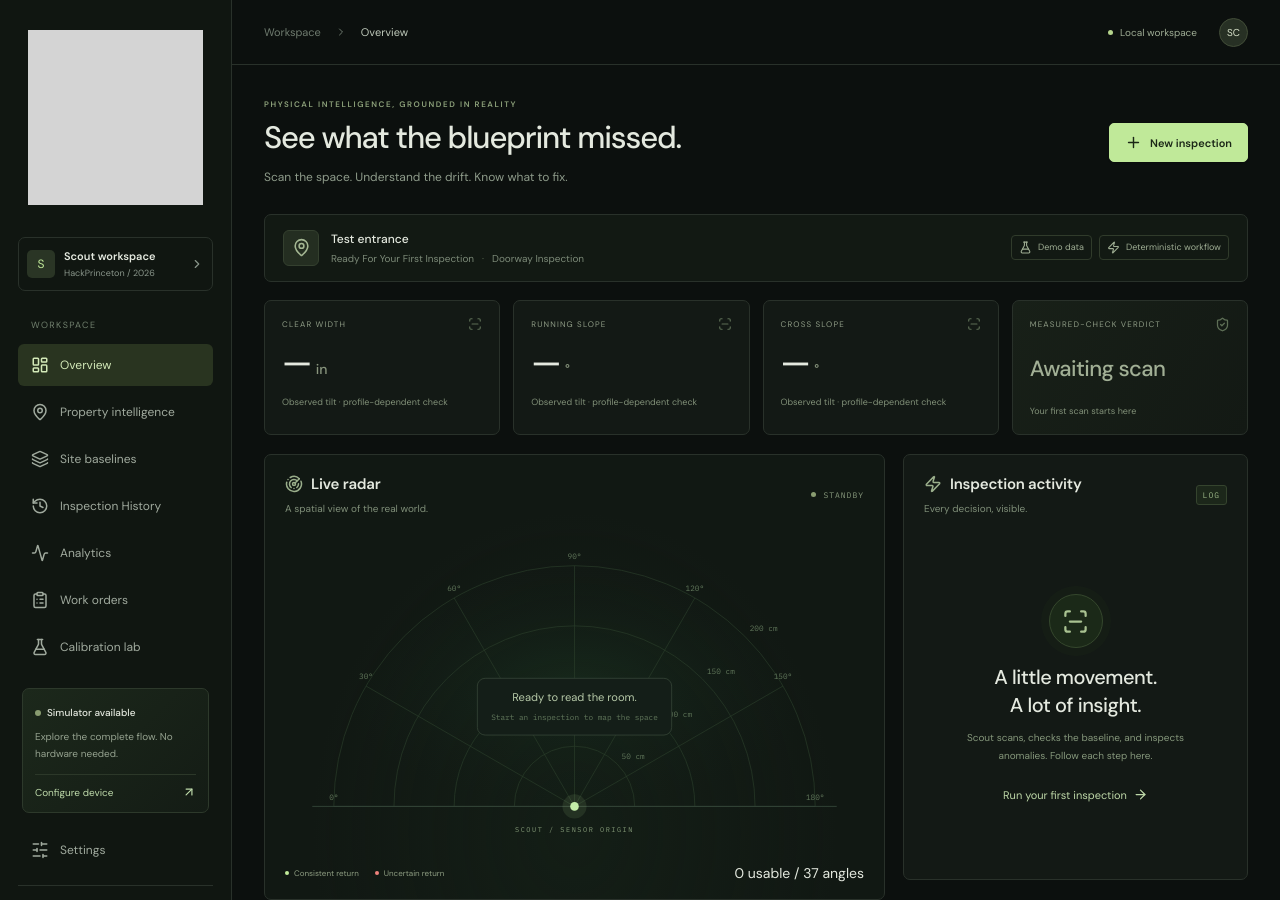
Test case: Inspection workspace › cancels a running scan
The image size is (1280, 900).
expect the heading "See what the blueprint missed." is shown: met, box [264,119,681,158]
Click the button "New inspection".
click(1179, 143)  # box [1109,124,1248,162]
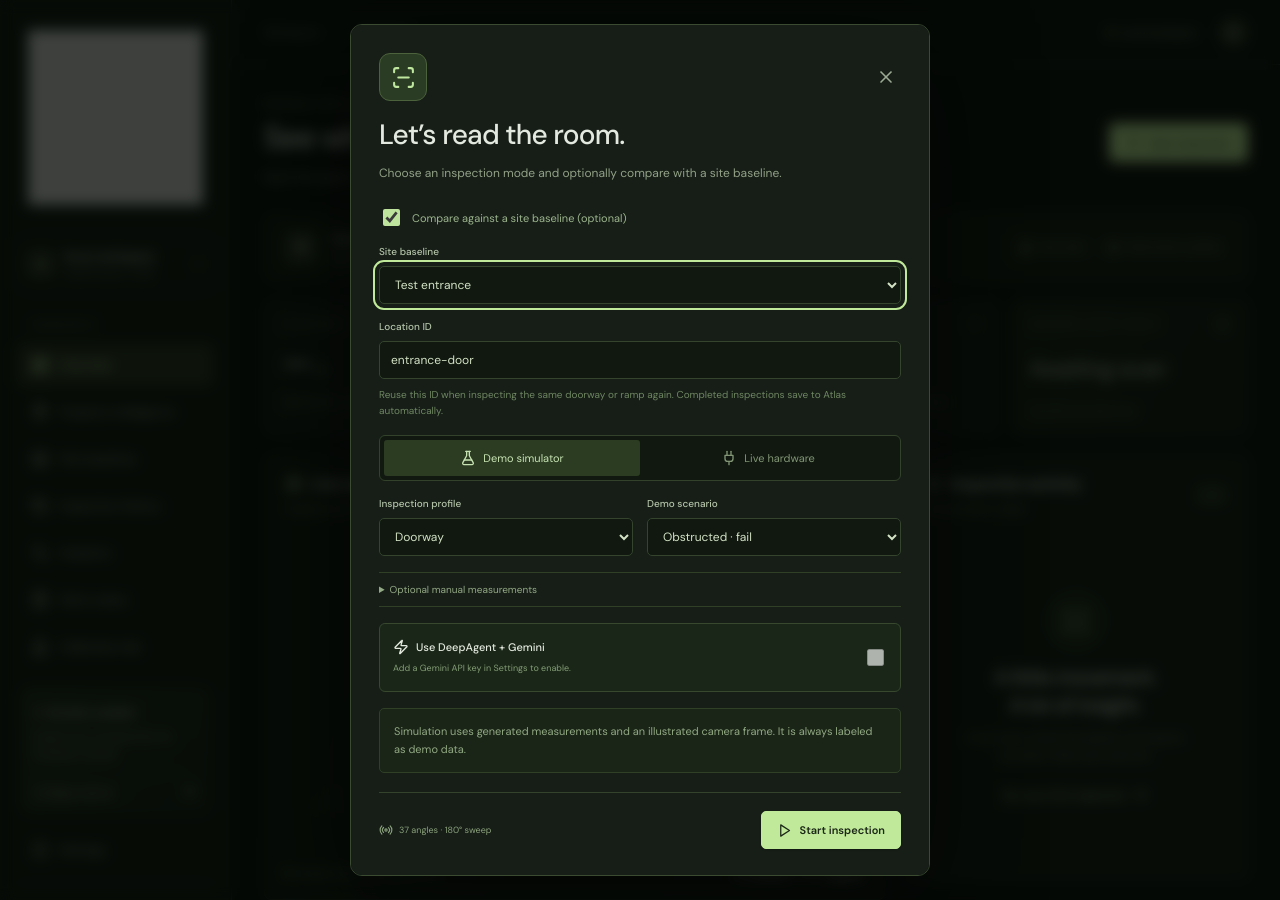
Click the button "Start inspection".
click(831, 830)  # box [761,811,901,849]
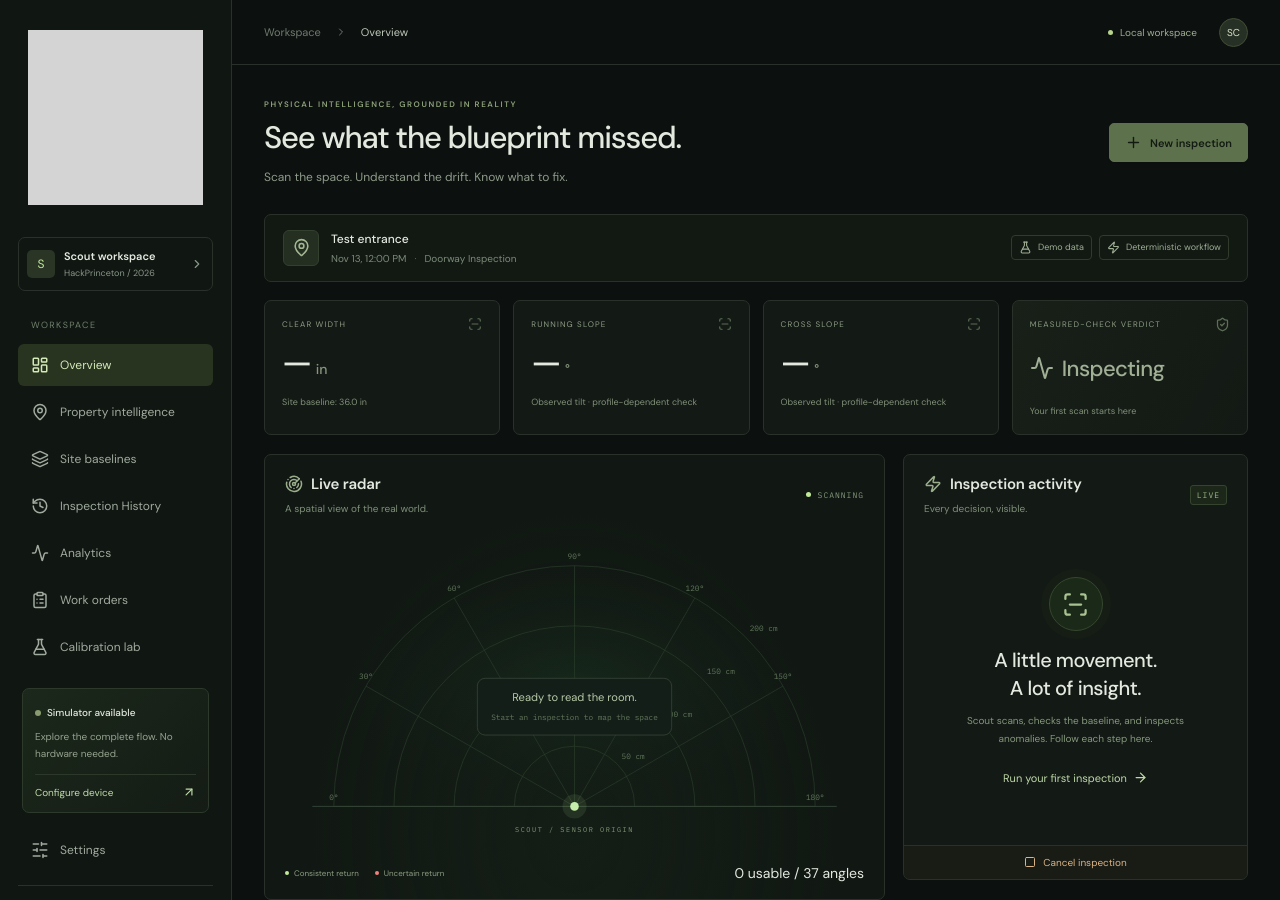
Click the button "Cancel inspection".
click(1076, 862)  # box [904,845,1247,879]
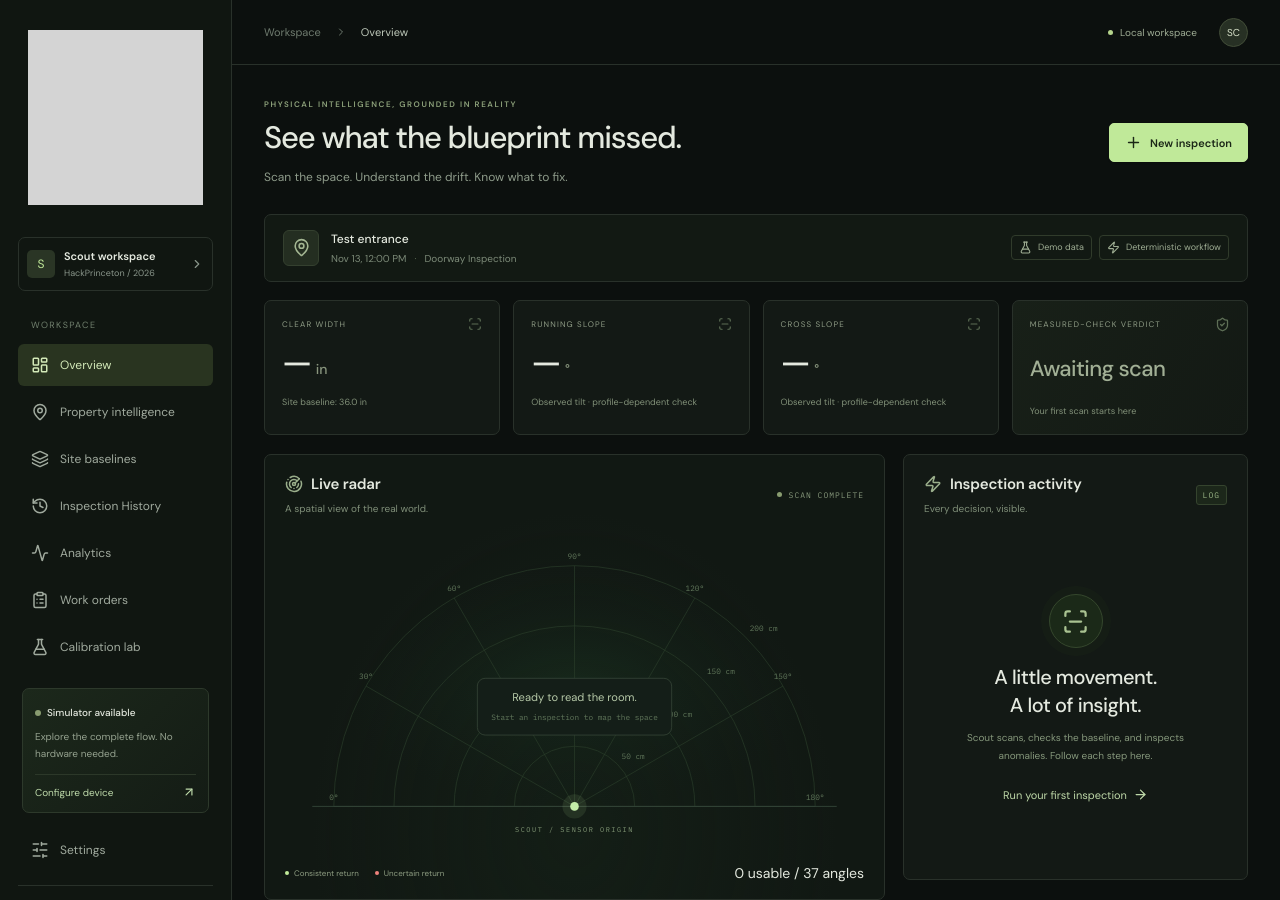
expect the button "Cancel inspection" is gone: met
